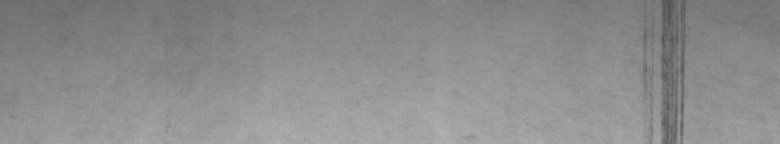hd: (643, 4, 688, 136)
